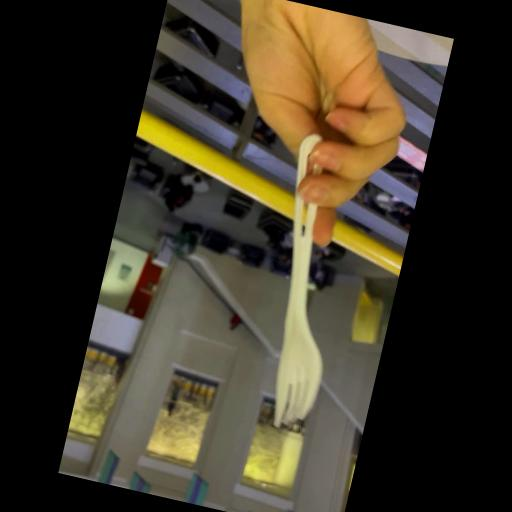utensil: (237, 133, 375, 435)
